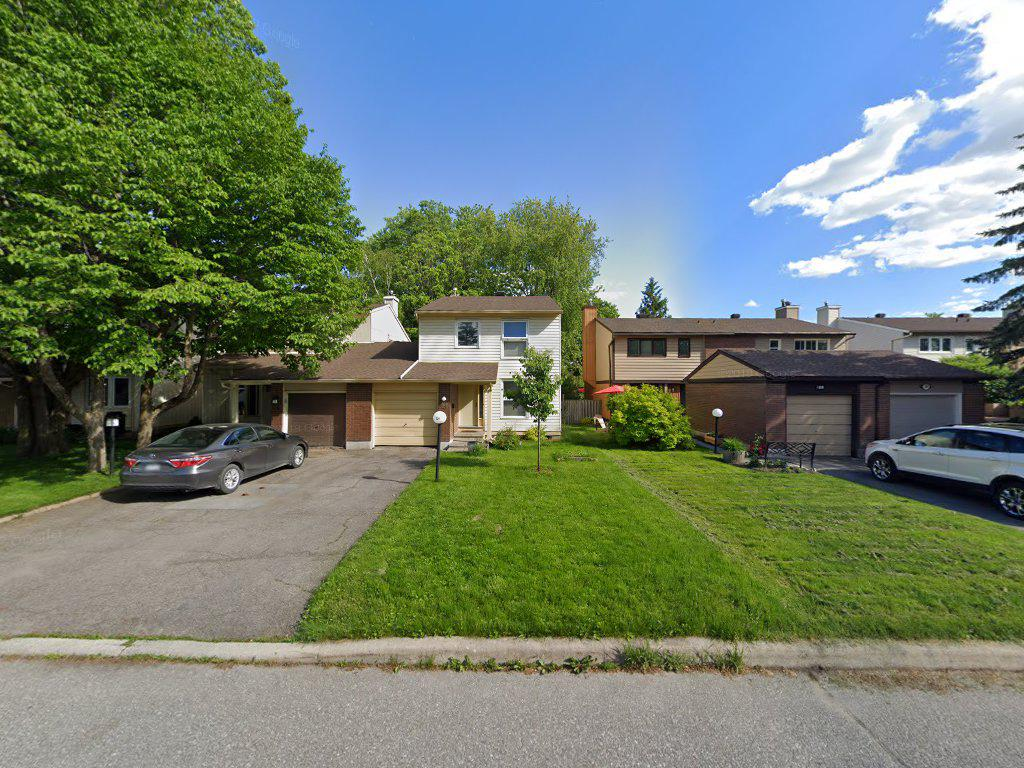trunk: (79, 399, 111, 487), (136, 394, 157, 455)
